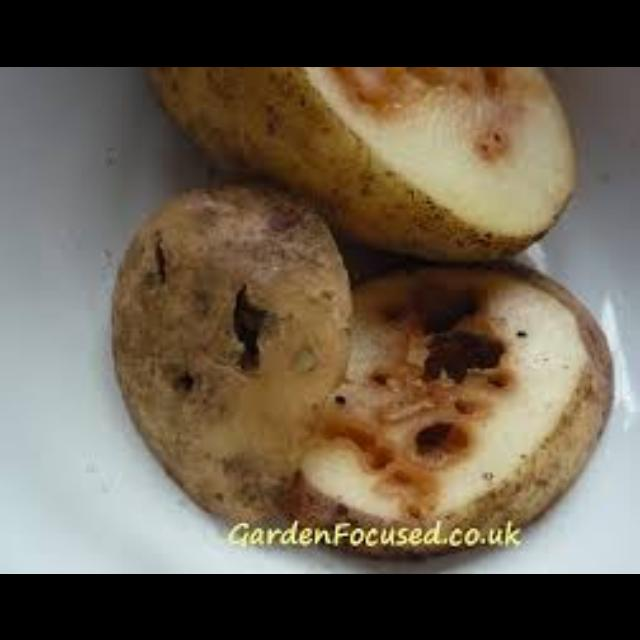Damaged potato: (116, 175, 594, 558), (132, 67, 590, 266)
